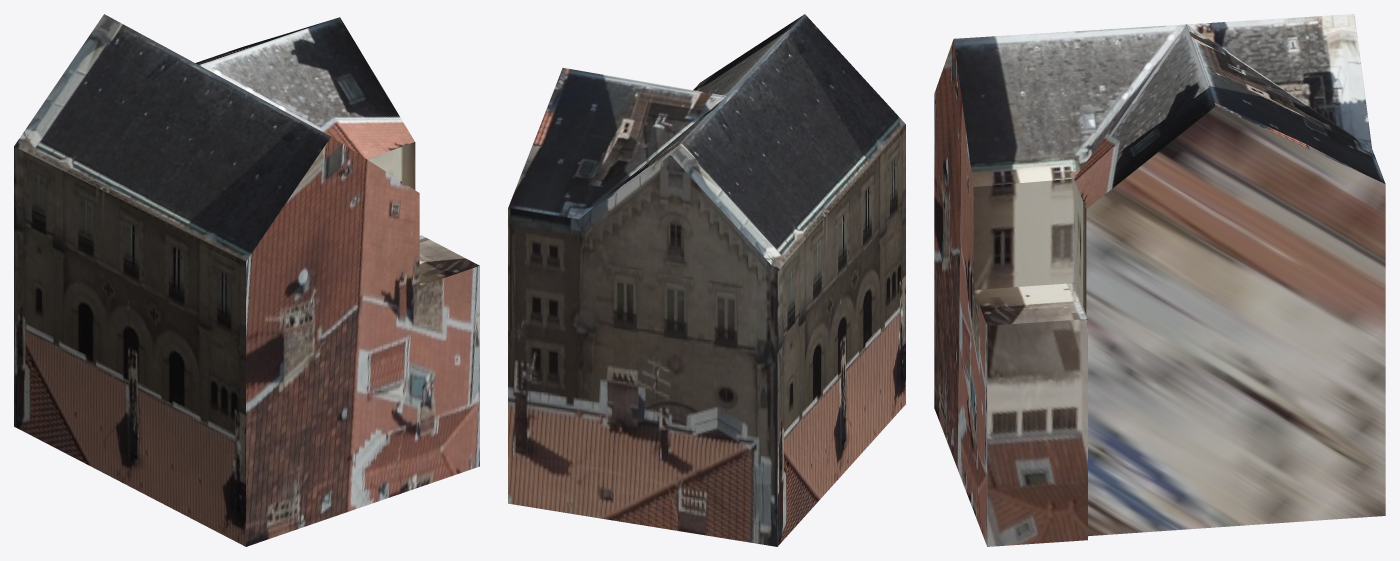
3 views of the same model, side by side, from view 1: azimuth 30°, elevation 25°; view 2: azimuth 150°, elevation 25°; view 3: azimuth 270°, elevation 25° (orthographic). The views are drawn at different scales.
Visible parts, largest first — view 1: Z_UP; view 2: Z_UP; view 3: Z_UP.
Part boxes in pixels (x1,y1,x2,y2): Z_UP: (14,14,479,546); Z_UP: (508,14,905,546); Z_UP: (934,14,1385,546).
Size of the model in its own units: 17.33 by 20.51 by 19.91.
2 materials, 1 textured.
